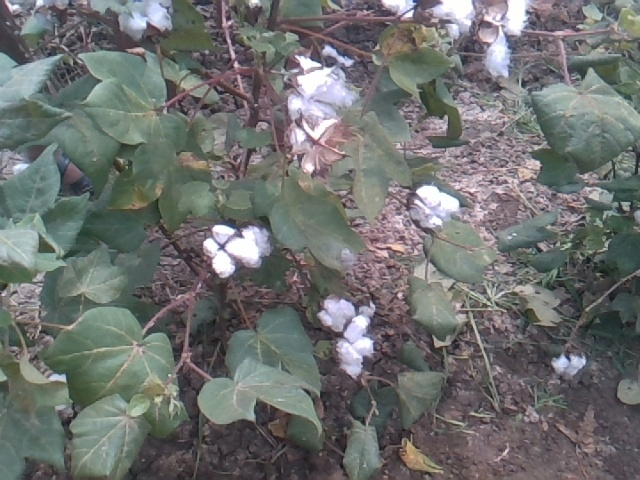cotton: (198, 219, 260, 281), (285, 63, 348, 124), (337, 314, 376, 382), (408, 181, 461, 230), (112, 2, 179, 40), (486, 20, 518, 86), (549, 343, 590, 383), (241, 216, 274, 262), (318, 292, 356, 331), (357, 300, 376, 317)
